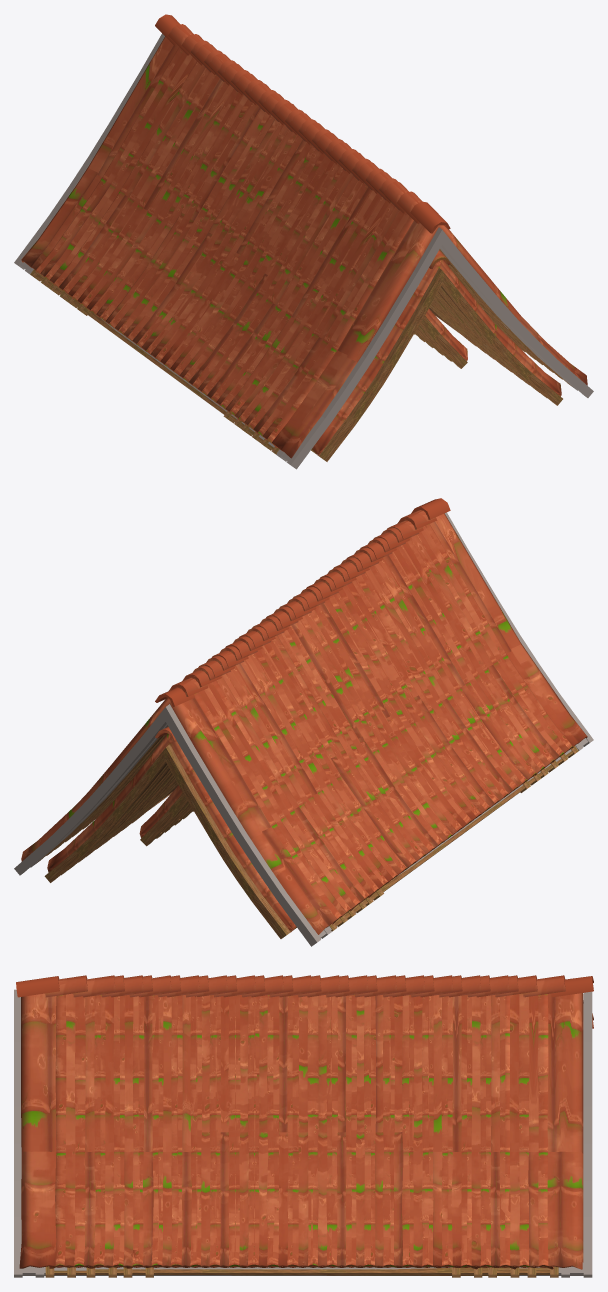
Rendered from village.glb.
3 views of the same model, one above another, from view 1: azimuth 30°, elevation 25°; view 2: azimuth 150°, elevation 25°; view 3: azimuth 270°, elevation 25° (orthographic). The views are drawn at different scales.
Visible parts, largest first — view 1: Roof_RoundTiles_8x14, Roof_RoundTiles_8x12, Roof_RoundTiles_8x10, Roof_RoundTiles_6x14, Roof_RoundTiles_8x8, Roof_RoundTiles_4x8; view 2: Roof_RoundTiles_8x14, Roof_RoundTiles_8x12, Roof_RoundTiles_8x10, Roof_RoundTiles_8x8, Roof_RoundTiles_6x14, Roof_RoundTiles_4x8; view 3: Roof_RoundTiles_8x14, Roof_RoundTiles_8x12, Roof_RoundTiles_8x10, Roof_RoundTiles_8x8.
Boxes of the visible parts, bbox=[...] form: Roof_RoundTiles_8x14: bbox=[14, 14, 593, 469]; Roof_RoundTiles_8x12: bbox=[30, 24, 571, 454]; Roof_RoundTiles_8x10: bbox=[49, 40, 553, 442]; Roof_RoundTiles_6x14: bbox=[311, 250, 562, 461]; Roof_RoundTiles_8x8: bbox=[66, 50, 535, 428]; Roof_RoundTiles_4x8: bbox=[418, 309, 467, 368]; Roof_RoundTiles_8x14: bbox=[14, 498, 593, 946]; Roof_RoundTiles_8x12: bbox=[36, 510, 578, 931]; Roof_RoundTiles_8x10: bbox=[55, 528, 558, 919]; Roof_RoundTiles_8x8: bbox=[73, 538, 541, 905]; Roof_RoundTiles_6x14: bbox=[44, 727, 296, 938]; Roof_RoundTiles_4x8: bbox=[139, 785, 189, 846]; Roof_RoundTiles_8x14: bbox=[14, 975, 593, 1277]; Roof_RoundTiles_8x12: bbox=[45, 975, 565, 1277]; Roof_RoundTiles_8x10: bbox=[83, 975, 519, 1277]; Roof_RoundTiles_8x8: bbox=[123, 975, 489, 1277].
Size of the model in its own units: 9.95 by 8.12 by 15.71.
9 materials, 8 textured.
